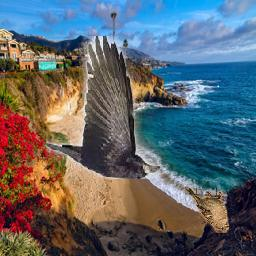Crow: (47, 37, 162, 180)
Sparrow: (185, 189, 229, 234)
